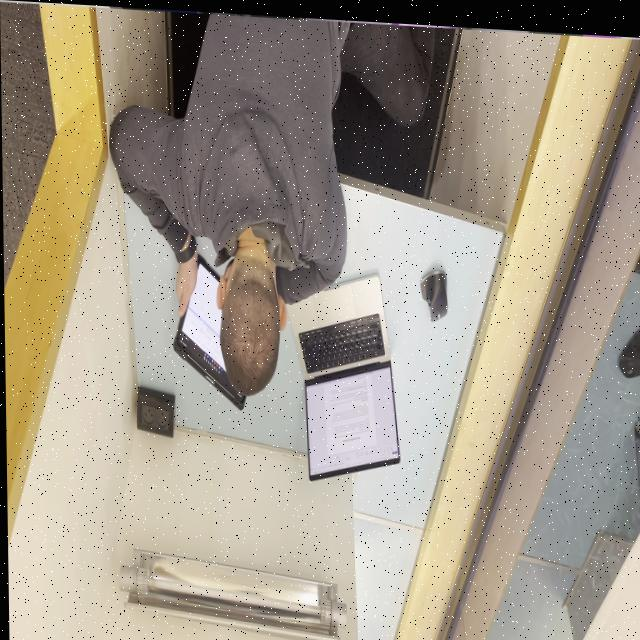bag: (170, 250, 245, 410)
ipad: (107, 5, 439, 403)
laptop: (283, 264, 399, 483)
mouse: (418, 263, 447, 318)
